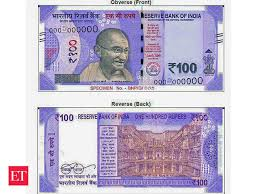hundred: (47, 19, 211, 78)
